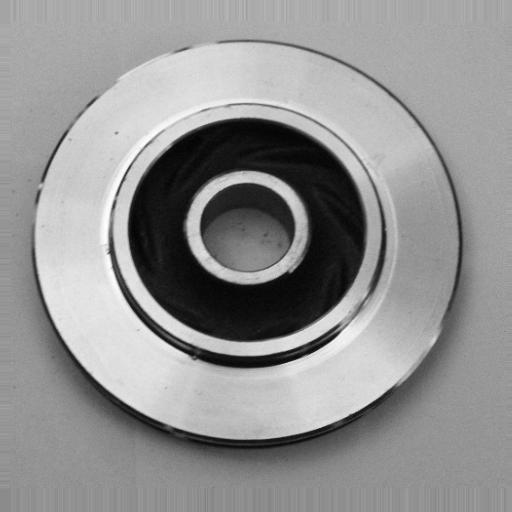scratch: (328, 280, 391, 347), (145, 104, 240, 145)
unpolished_casting: (35, 34, 464, 447)
